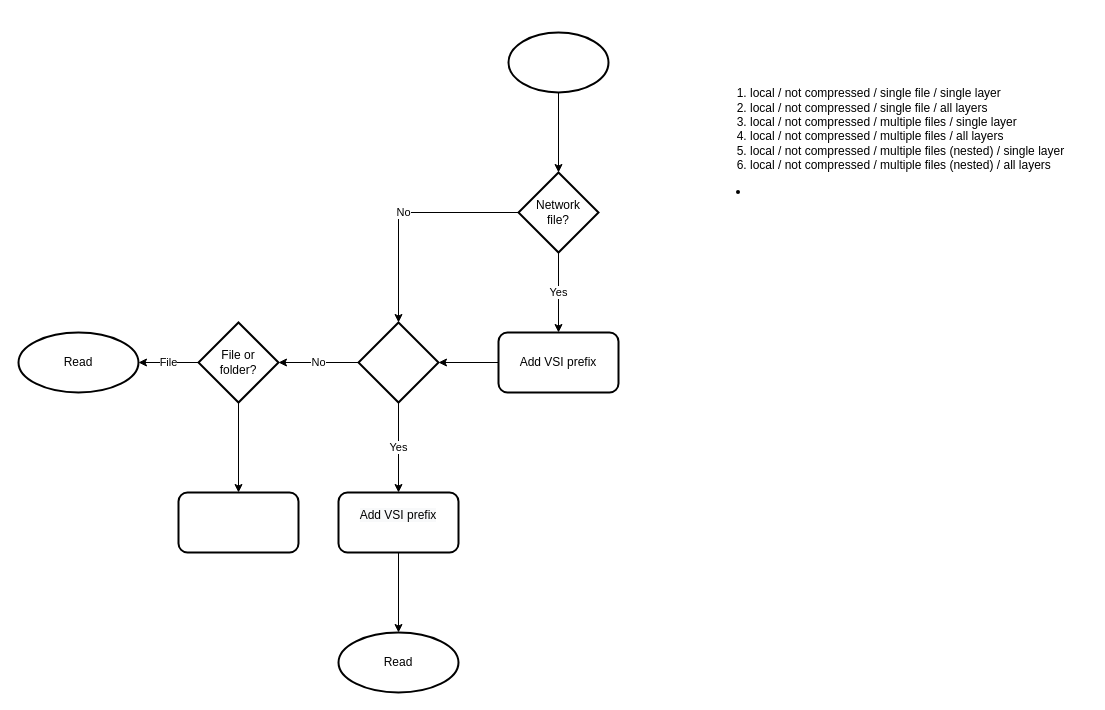
This 1105x710 diagram has some shape labels left out. The box of each missing label's shape, as (x1, y1, x2, y2) in pixels:
Build list of paths: (177, 491, 299, 553)
Compressed?: (357, 321, 439, 403)
path: (507, 31, 609, 93)
